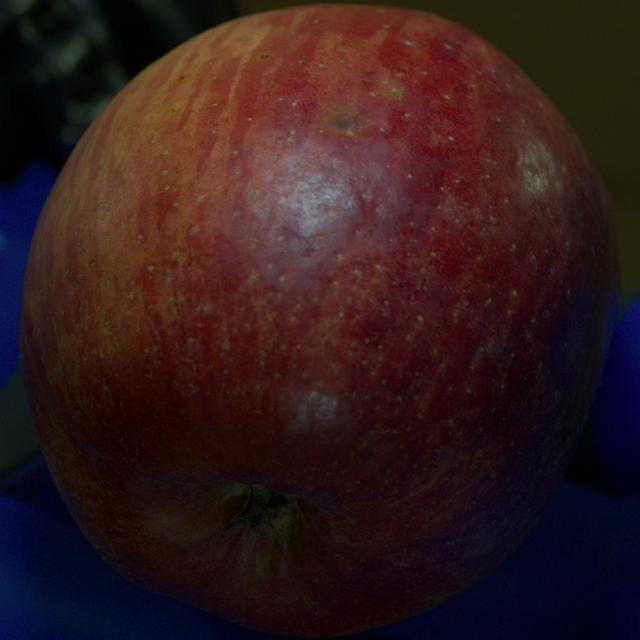apple: (19, 6, 618, 637)
pest: (329, 114, 357, 134), (261, 54, 268, 58)
